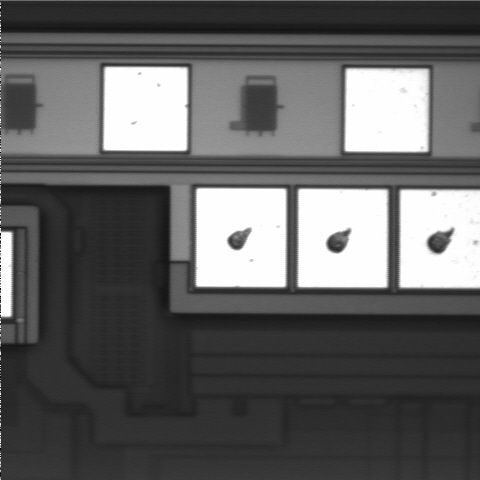pad: (196, 188, 286, 287), (298, 189, 388, 287), (103, 67, 188, 151), (345, 69, 428, 152)
